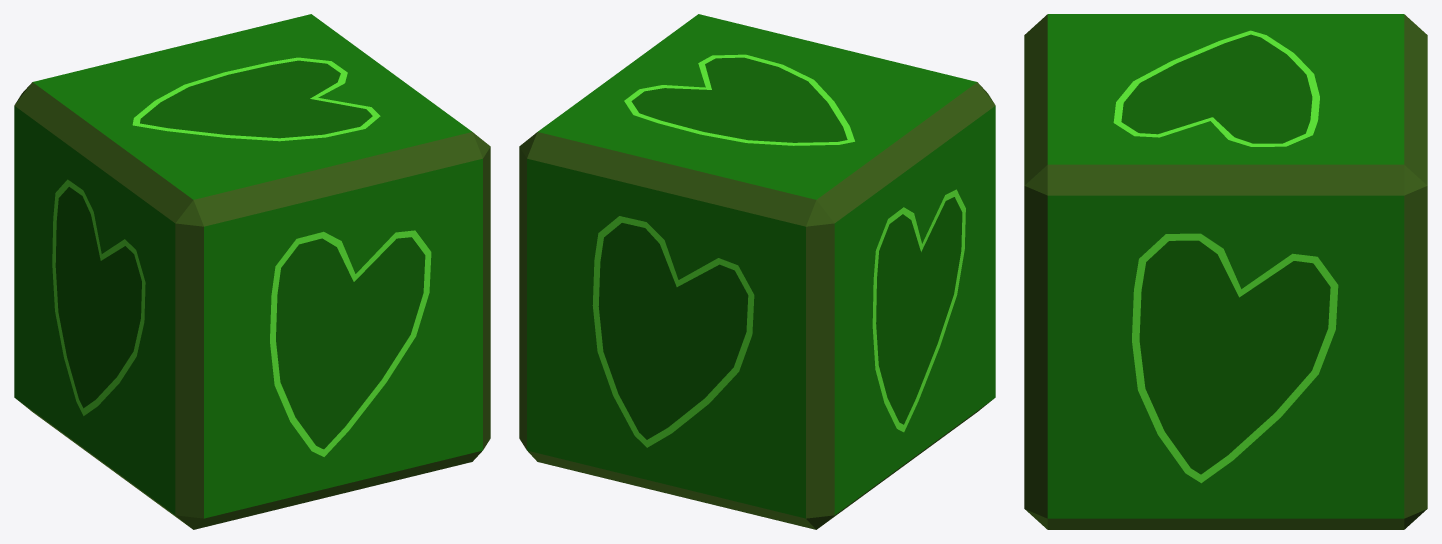
Rendered from support_trinket.glb.
3 views of the same model, side by side, from view 1: azimuth 30°, elevation 25°; view 2: azimuth 150°, elevation 25°; view 3: azimuth 270°, elevation 25° (orthographic). The views are drawn at different scales.
Visible parts, largest first — view 1: SupportTrinket; view 2: SupportTrinket; view 3: SupportTrinket.
Boxes of the visible parts, bbox=[...] form: SupportTrinket: bbox=[14, 14, 490, 529]; SupportTrinket: bbox=[519, 14, 995, 529]; SupportTrinket: bbox=[1024, 14, 1427, 529].
Bounding box in the file's own units: 1 × 1 × 1.
Materials: 1 (1 with a texture image).
